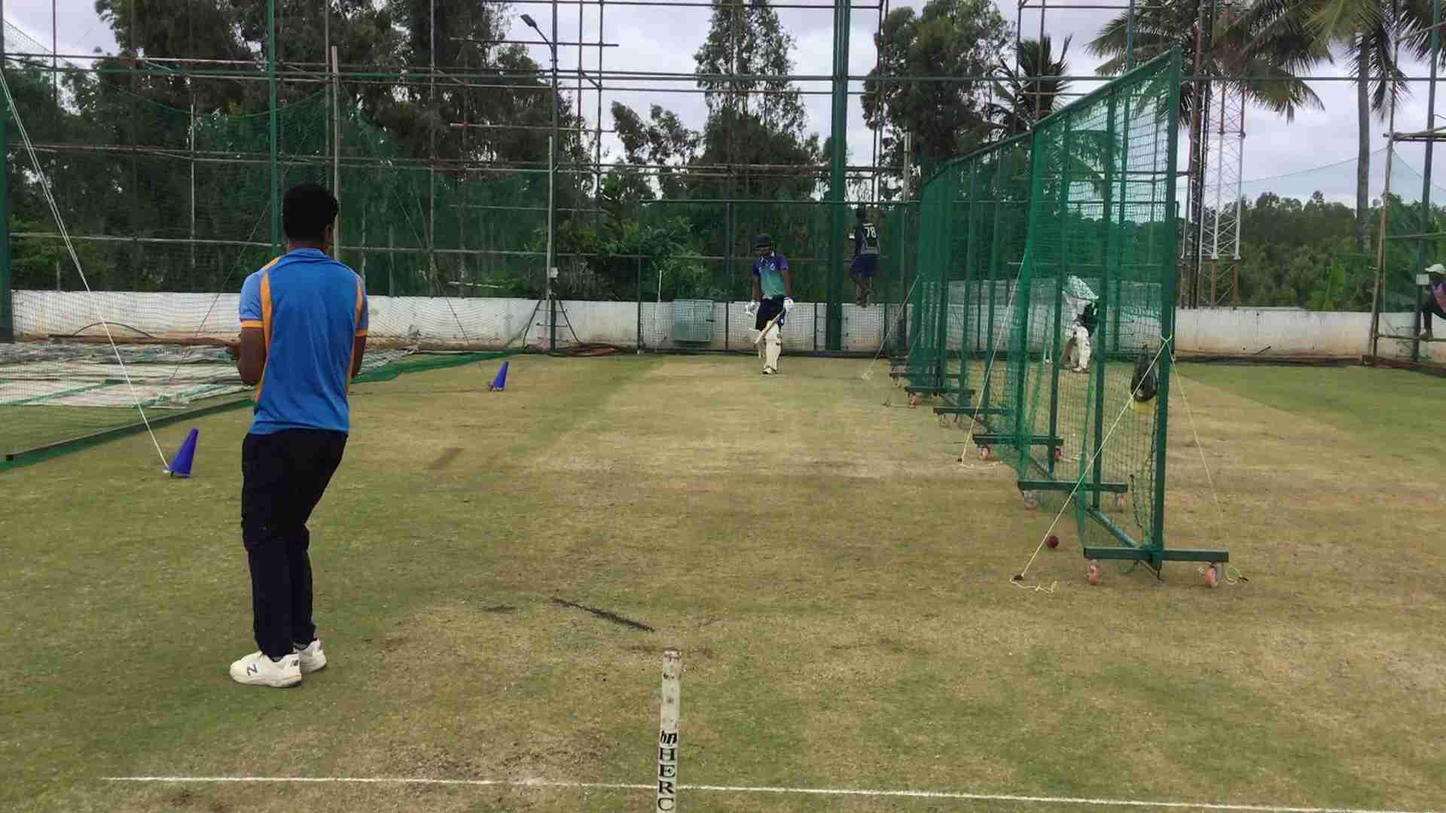batsman: (745, 223, 795, 378)
